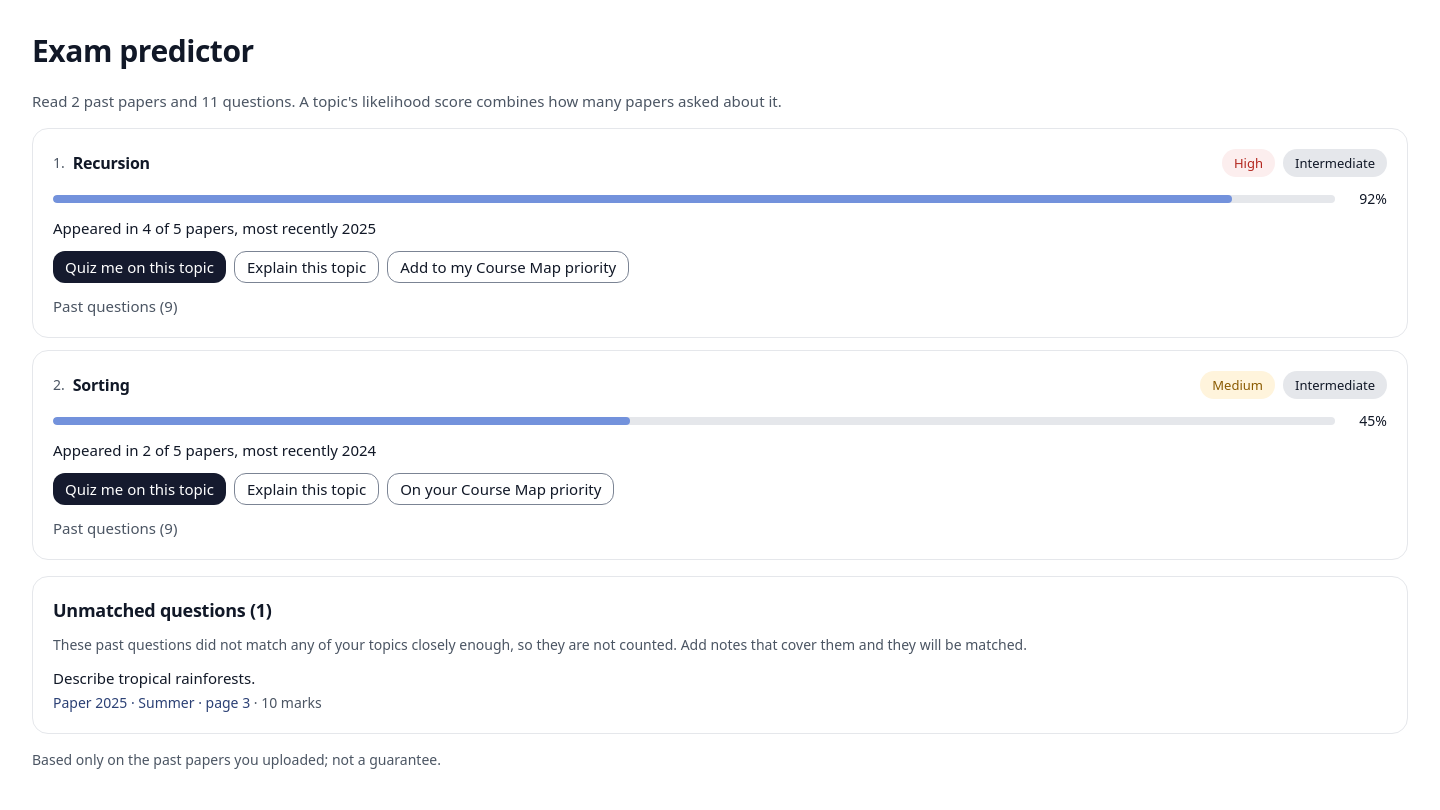
Test: ExamPredictorView › puts the priority button back when saving fails
Click the button "Add to my Course Map priority" at (508, 267), box [387, 251, 629, 283]
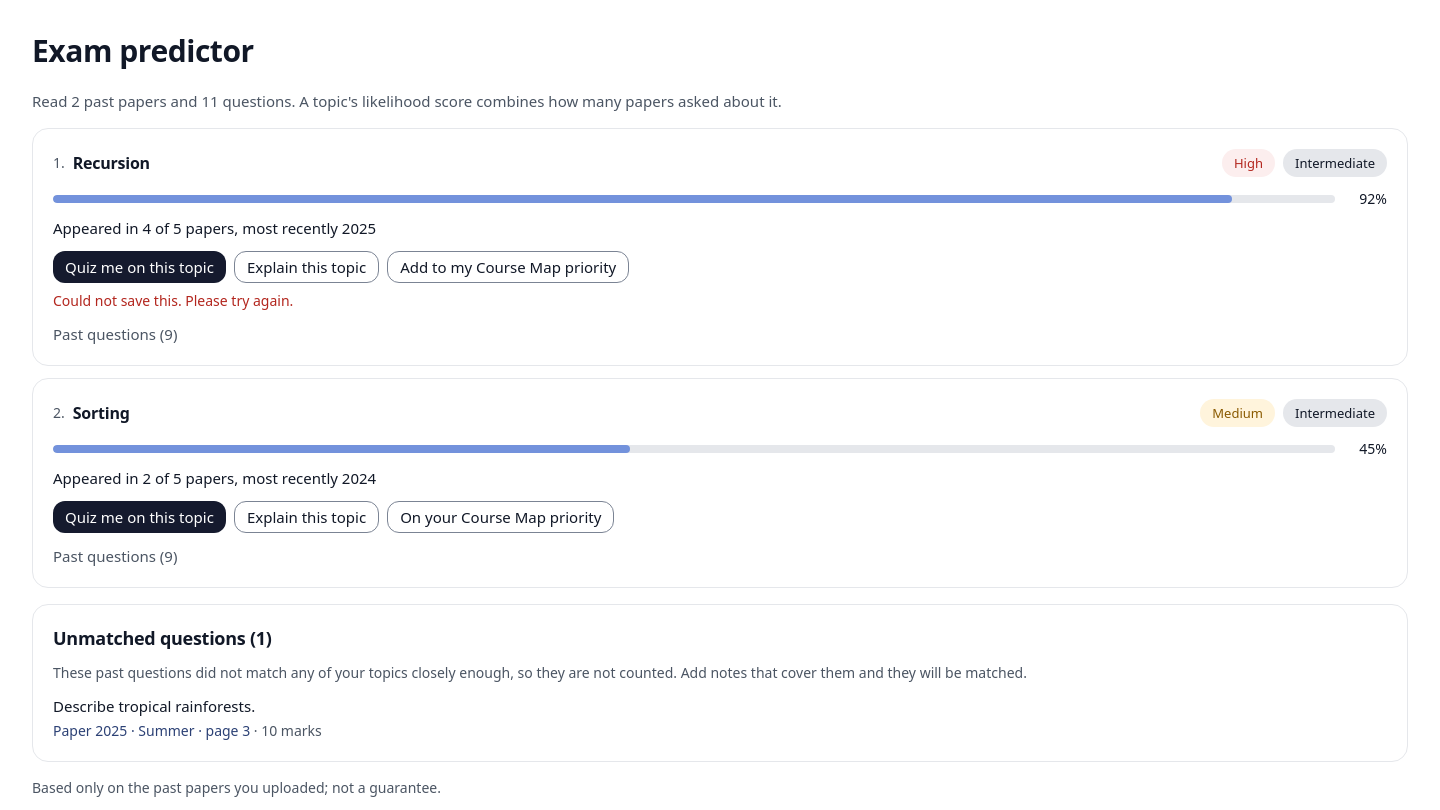
Result: the message shows "Could not save" at [53, 291, 293, 310]
